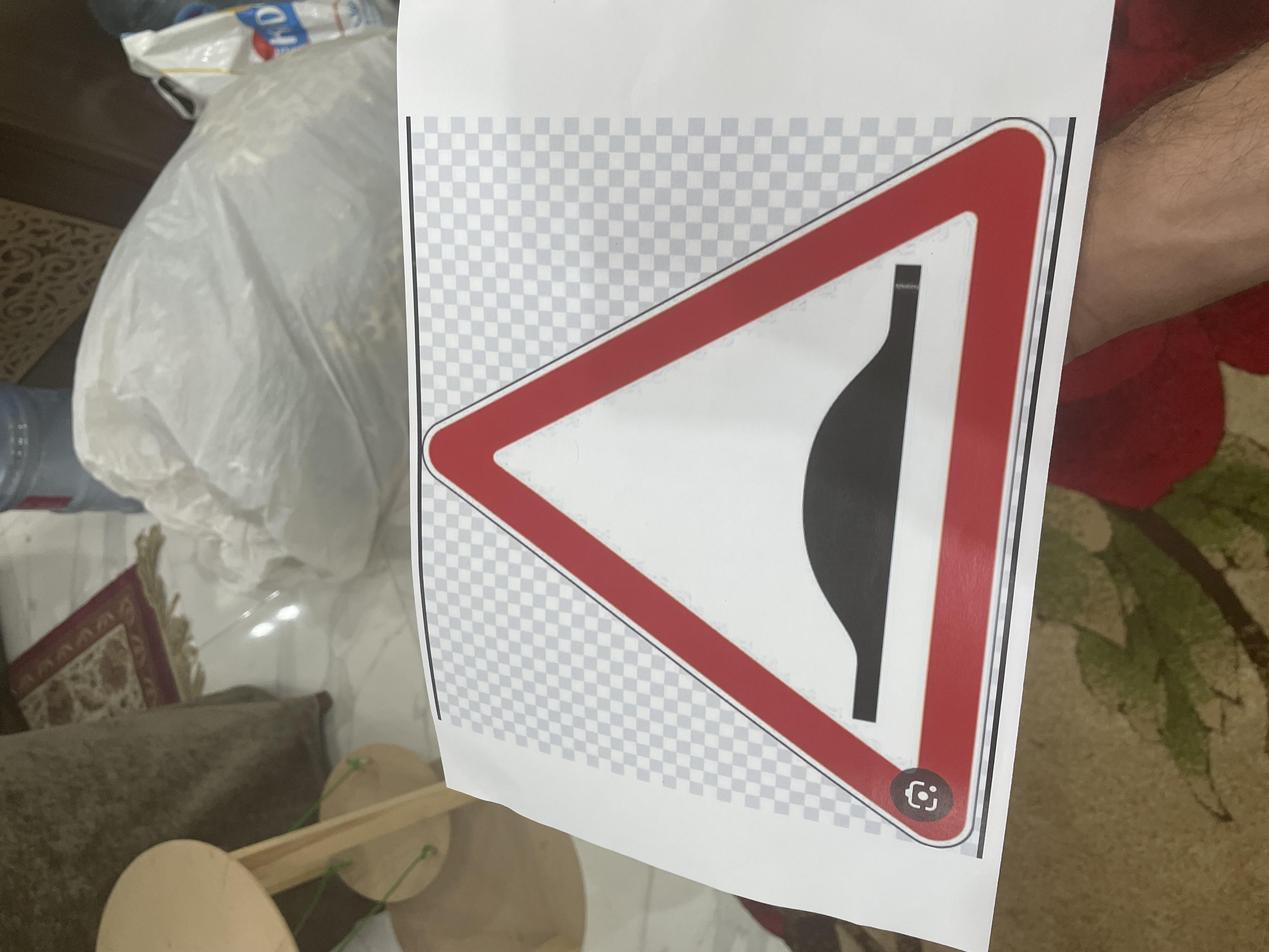Hump: (136, 314, 1121, 787)
